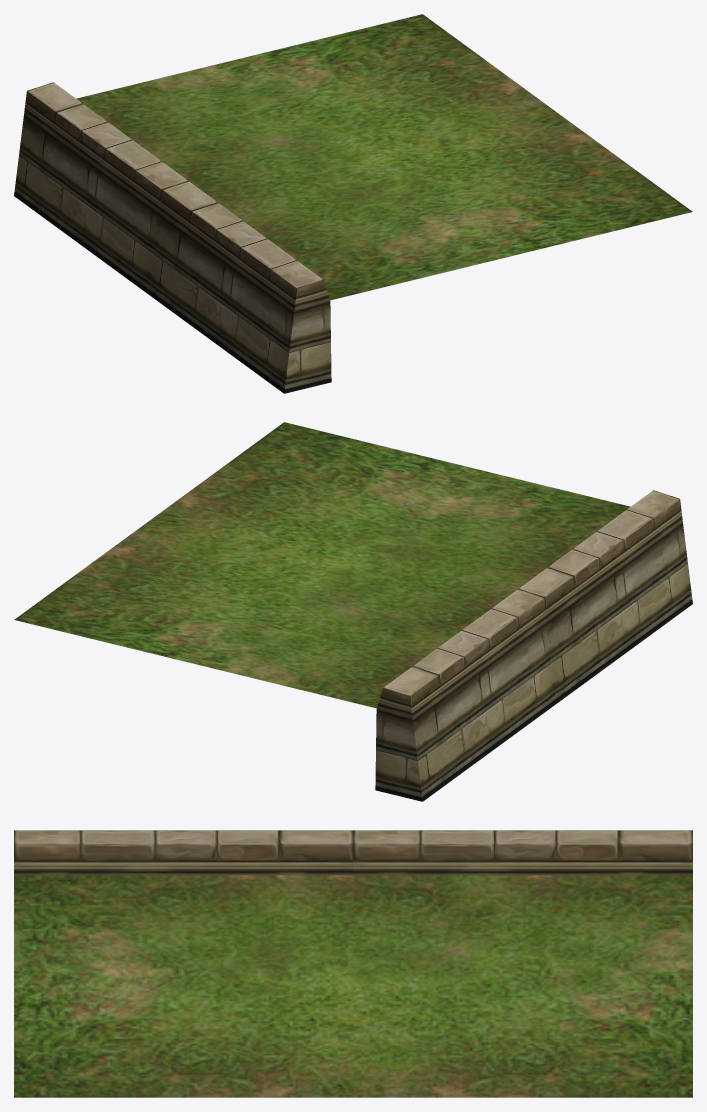
Rendered from DN_mchuatan02.FBX.
3 renders of one model, top to bottom at view 1: azimuth 30°, elevation 25°; view 2: azimuth 150°, elevation 25°; view 3: azimuth 270°, elevation 25°, orthographic. The views are drawn at different scales.
Parts seen in each view (by area): view 1: DN_mchuatan02; view 2: DN_mchuatan02; view 3: DN_mchuatan02.
Boxes of the visible parts, left/top/right/bottom form: DN_mchuatan02: left=14, top=14, right=692, bottom=393; DN_mchuatan02: left=14, top=422, right=692, bottom=801; DN_mchuatan02: left=14, top=830, right=692, bottom=1097.
Size of the model in its own units: 383 by 93.27 by 438.
